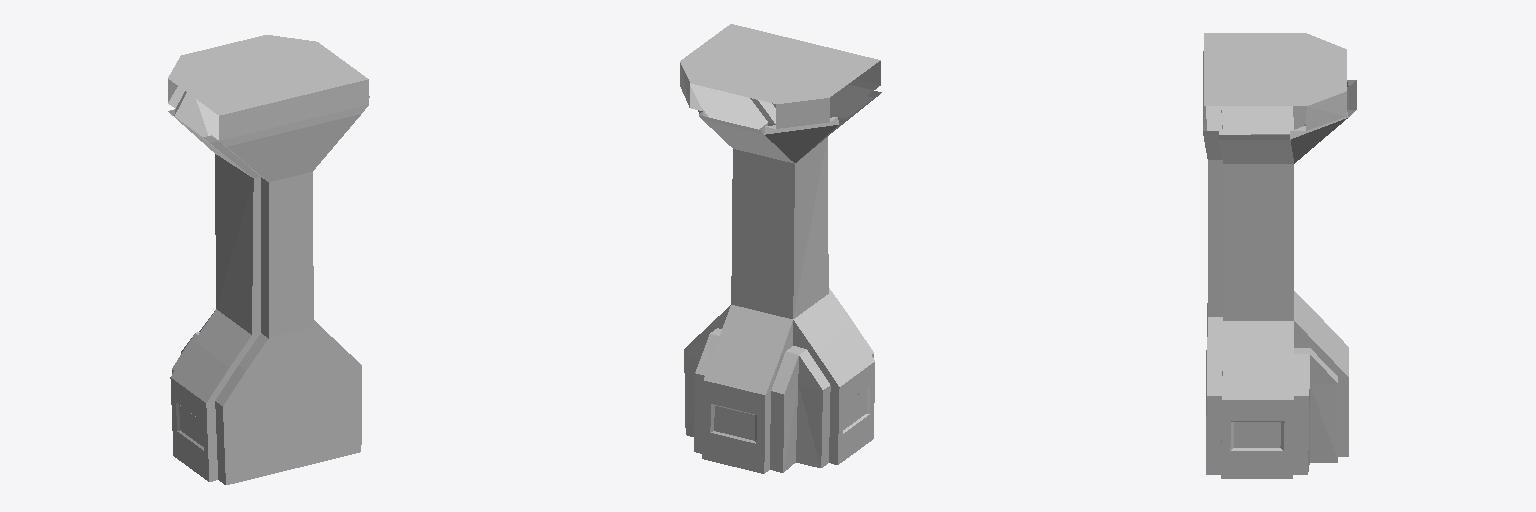
File: interior_triple_corner_pillar.obj
The picture shows the model from 3 angles: view 1: azimuth 30°, elevation 25°; view 2: azimuth 150°, elevation 25°; view 3: azimuth 270°, elevation 25°; orthographic projection.
Parts seen in each view (by area): view 1: Plane.005_Plane.000; view 2: Plane.005_Plane.000; view 3: Plane.005_Plane.000.
Part boxes in pixels (left/top/right/bottom): Plane.005_Plane.000: left=168, top=35, right=369, bottom=484; Plane.005_Plane.000: left=680, top=24, right=881, bottom=473; Plane.005_Plane.000: left=1203, top=33, right=1356, bottom=478.
Bounding box in the file's own units: 1.88 × 4.01 × 1.5.